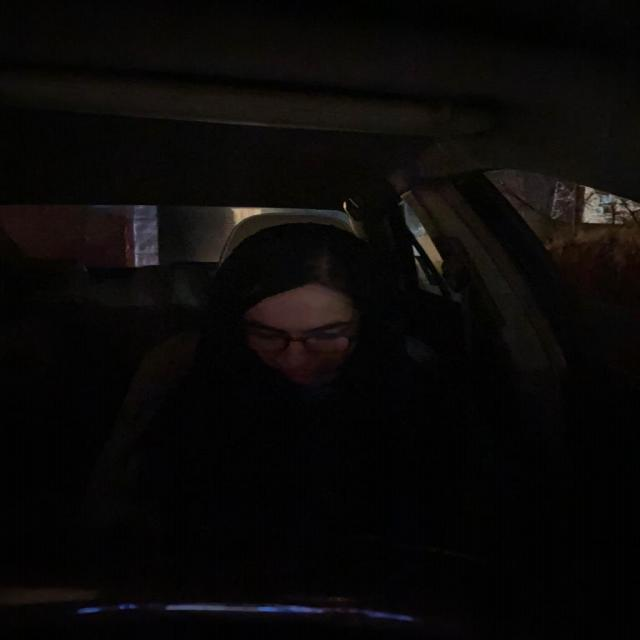drowsy: (212, 219, 398, 395)
